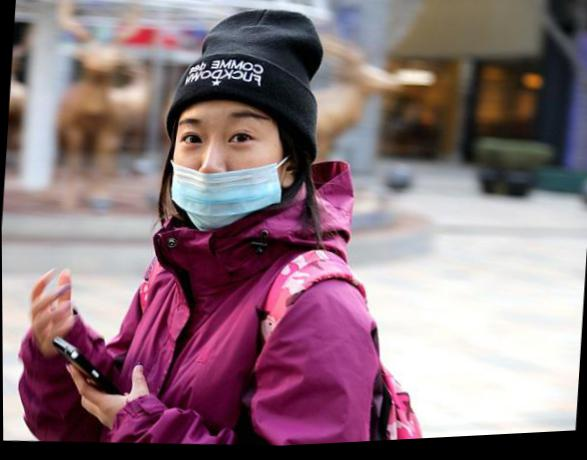WRONG: (159, 100, 289, 235)
